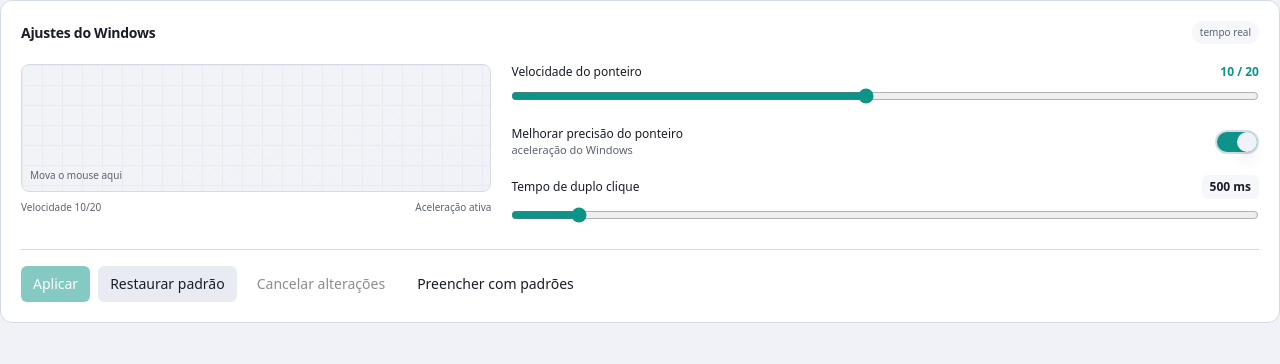
Scenario: MouseSettingsPanel — controles › aplica velocidade e tempo de duplo clique com os valores escolhidos
Set the slider labelled "Velocidade do ponteiro" to "16" at (1097, 96), box [511,88,1259,104]
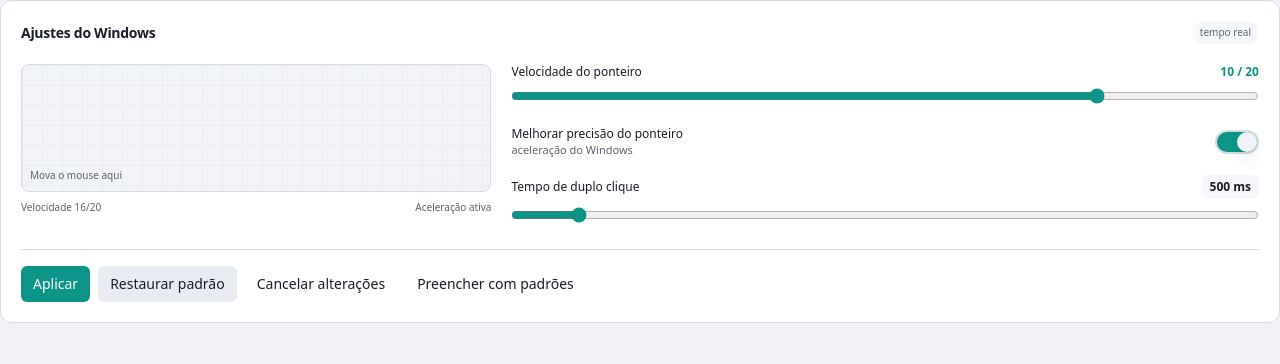
Set the slider labelled "Tempo de duplo clique" to "300" at (549, 214), box [511,206,1259,222]
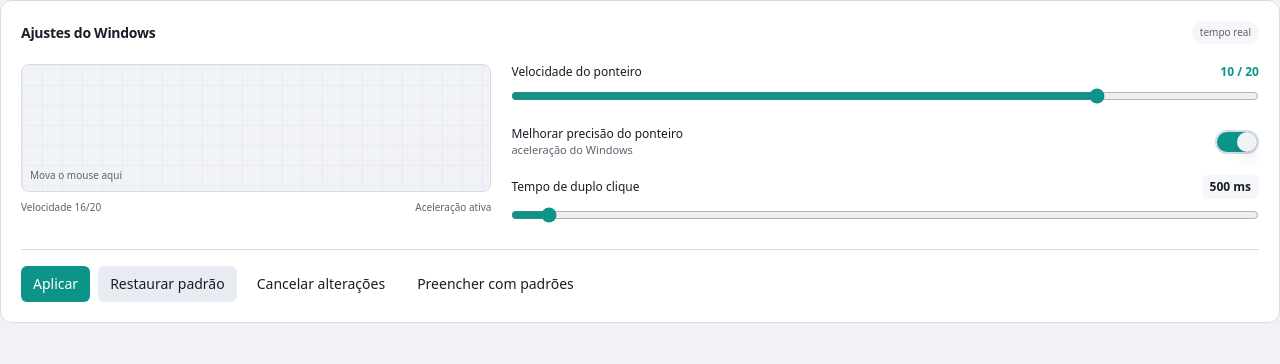
Click the button "Aplicar" at (56, 284), box [21,266,90,302]
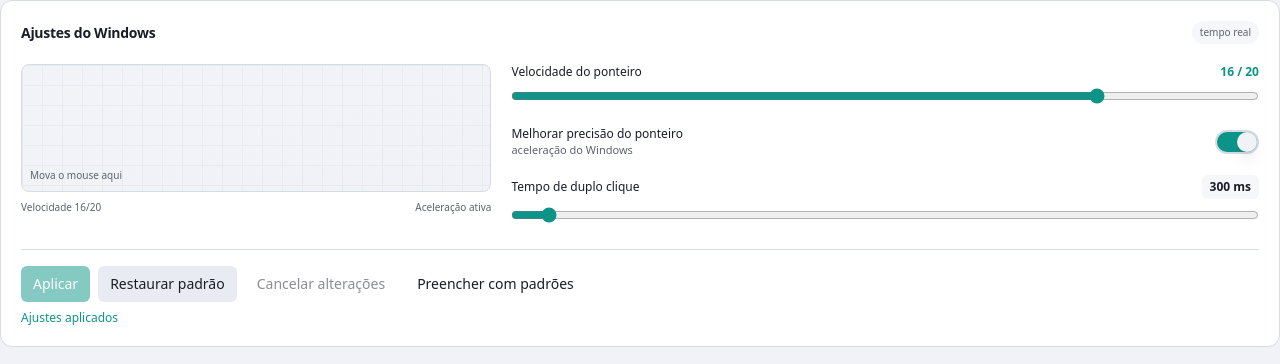
Expected: the text "Ajustes aplicados" is shown, [21,308,118,326]
